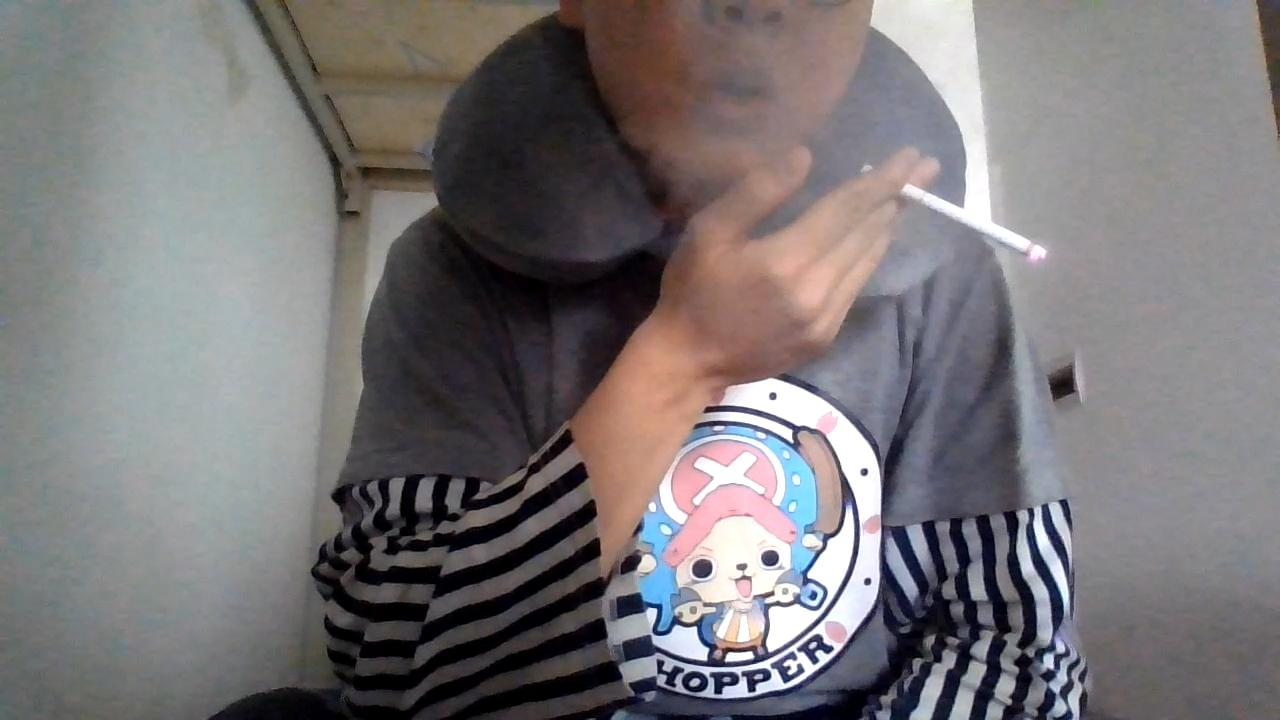yanwu: (677, 46, 969, 280)
